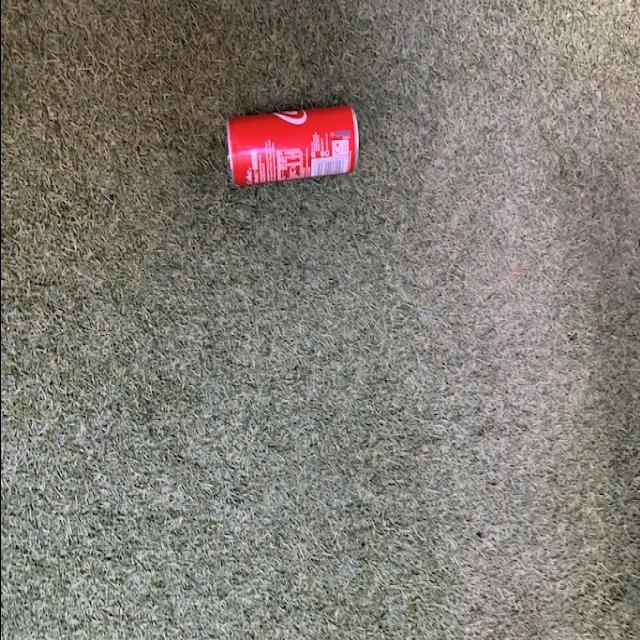Aluminum Can: (222, 98, 360, 198)
